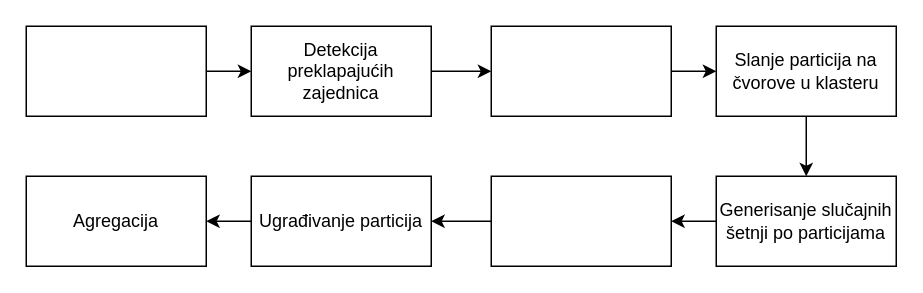
Some shapes in this 923 by 293 pixel diagram are drawn without their labels. Each missing label, with the box of its shape:
Obučavanje neuronskih mreža: (490, 175, 671, 266)
Particionisanje po čvorovima u klasteru: (490, 25, 671, 116)
Pronalaženje grafa na disku: (25, 25, 206, 116)
